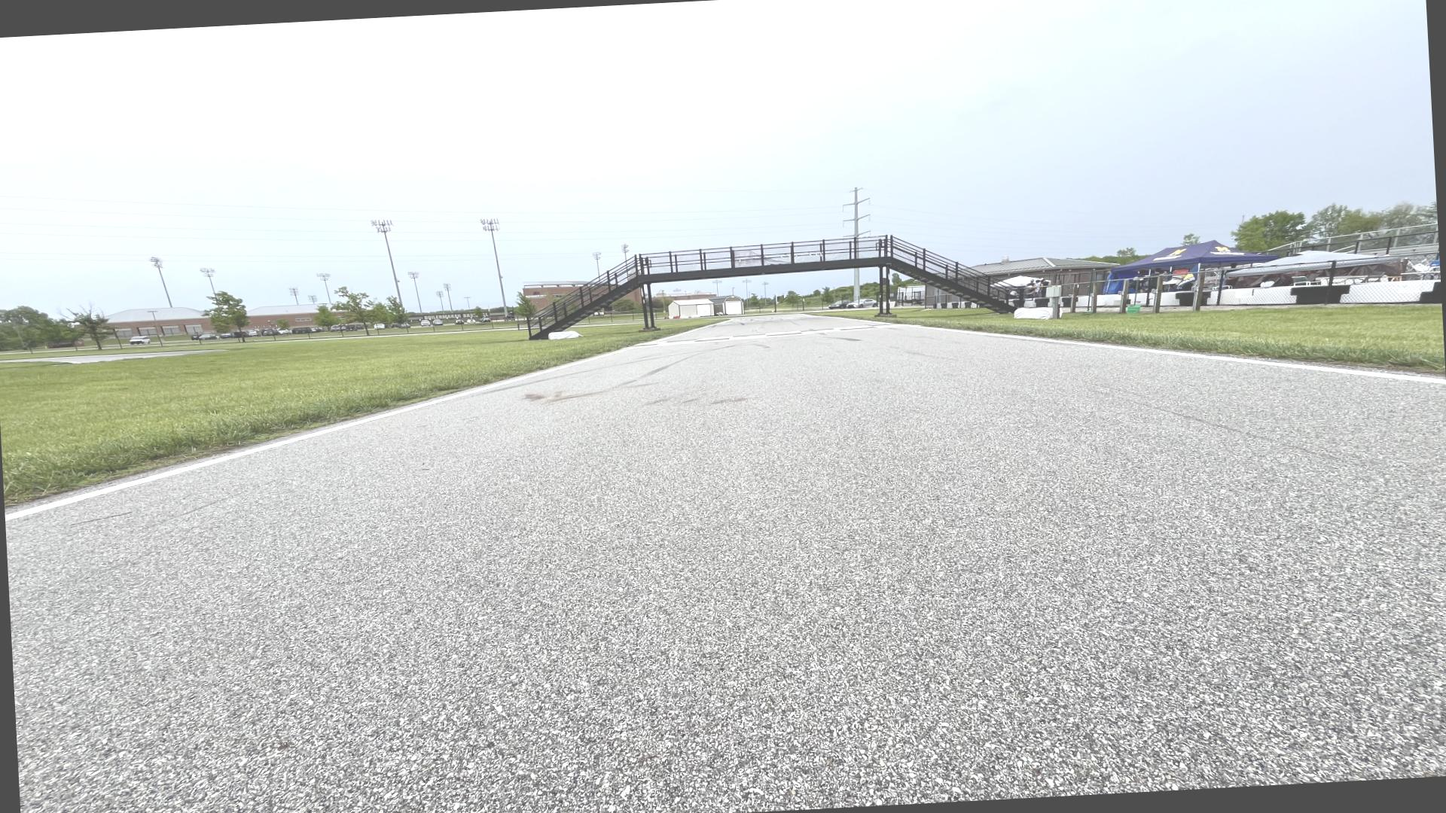white-line: (7, 349, 630, 524), (912, 327, 1445, 384), (651, 320, 732, 343), (799, 314, 892, 324)
